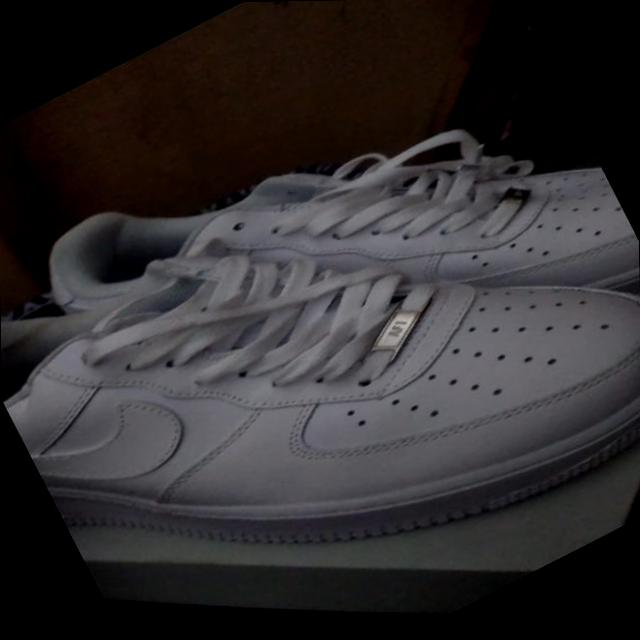nike_original_airforce: (0, 29, 640, 640), (18, 0, 640, 548)
